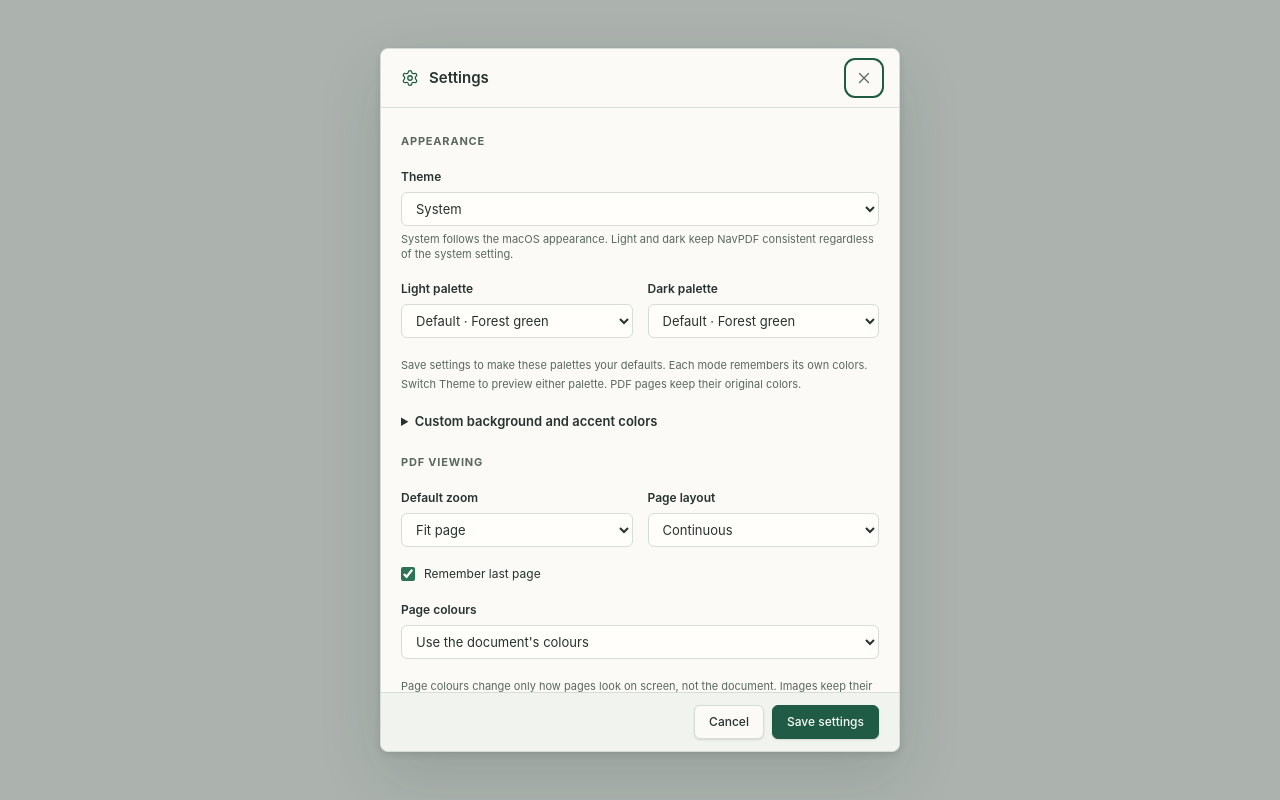
Test case: allows incomplete hex edits while preventing invalid form submission
Click the heading "Custom background and accent colors". click: (536, 421)
box: [415,413,658,429]
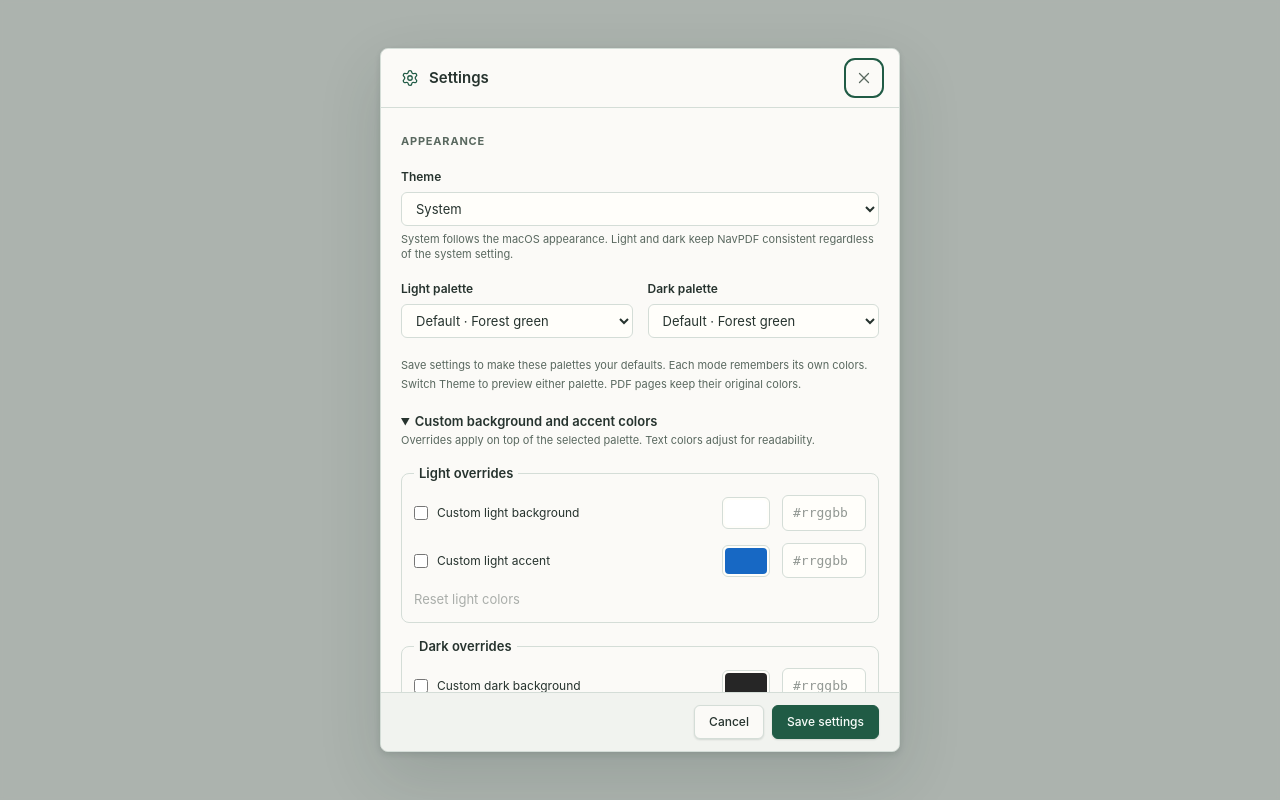
Click the checkbox labelled "Custom light accent". click: (421, 561)
box: [414,554,428,568]
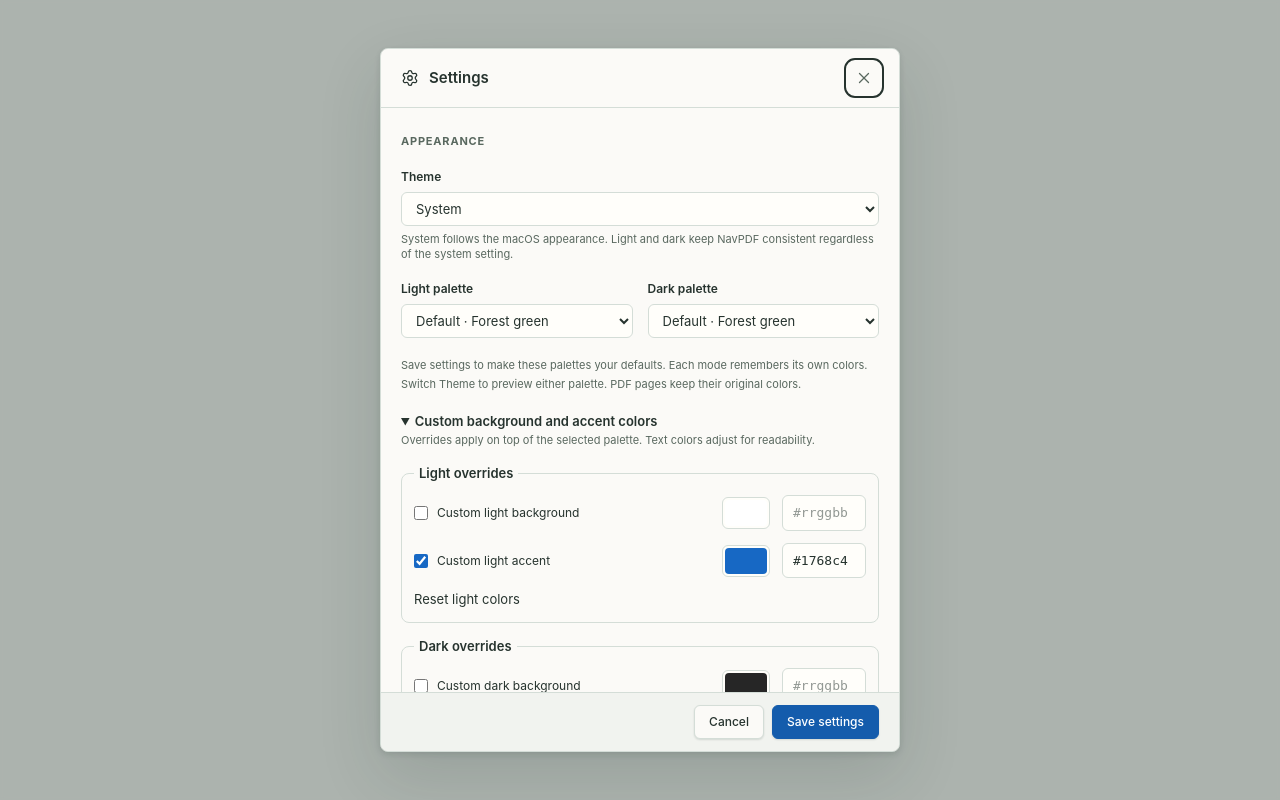
Clear the field named "Light accent hex". click: (824, 561)
box: [782,543,866,578]
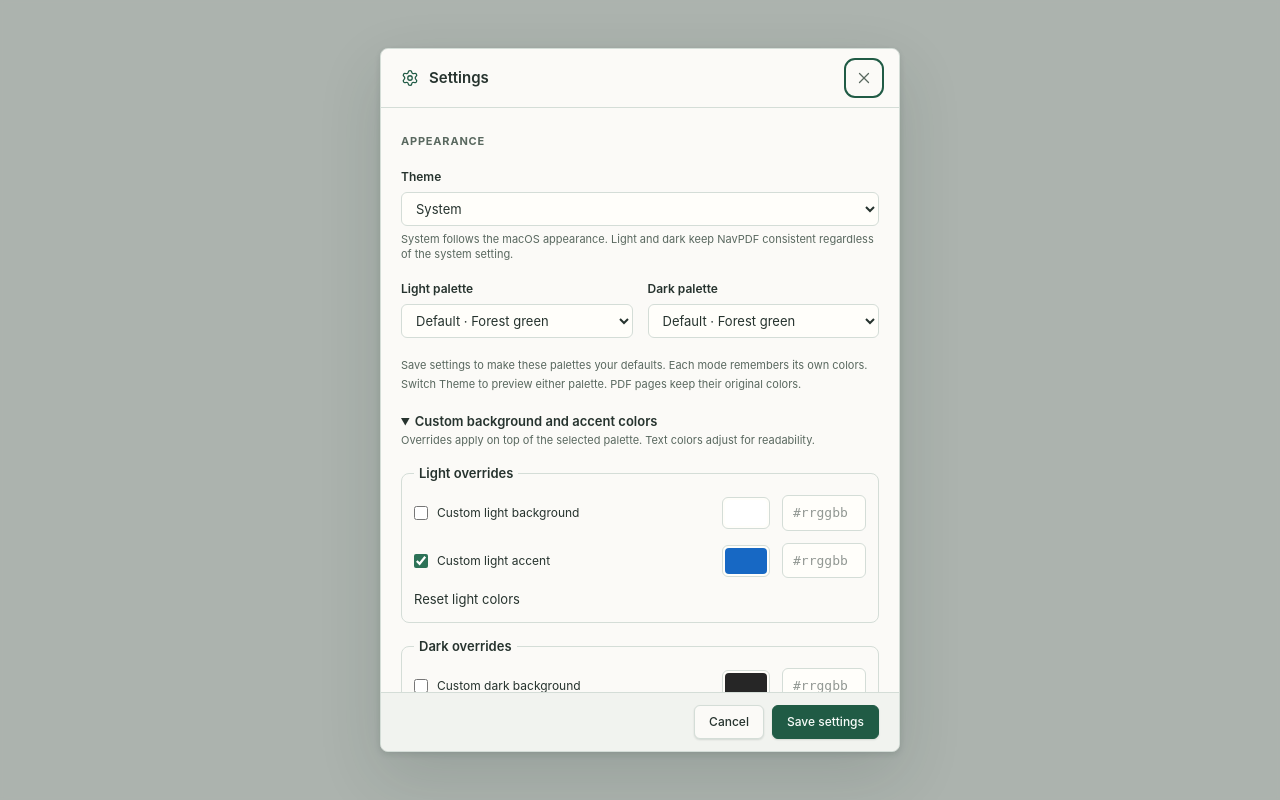
Check: the field named "Light accent hex" is enabled
Type "#ff8800" into the field named "Light accent hex". click: (824, 561)
box: [782,543,866,578]
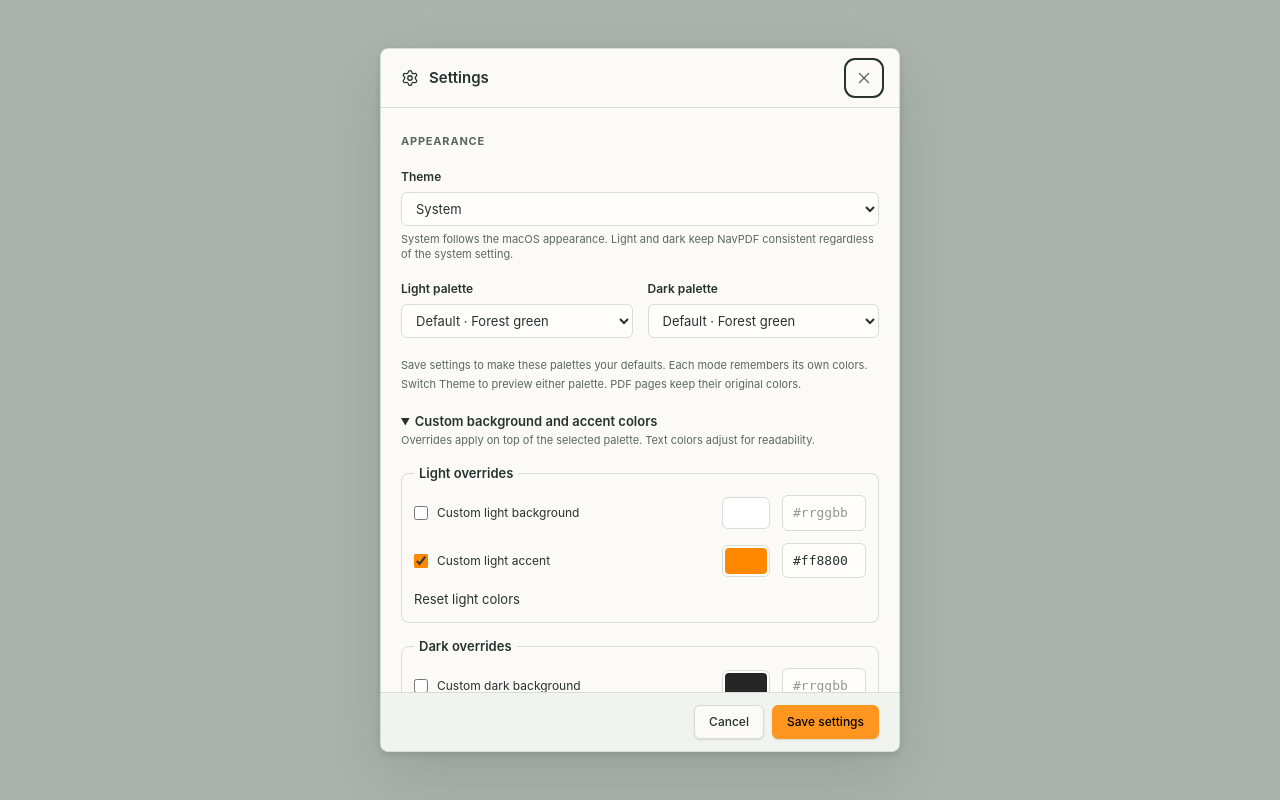
Check: the colour field named "Light accent color" holds "#ff8800", box [722,545,770,577]
